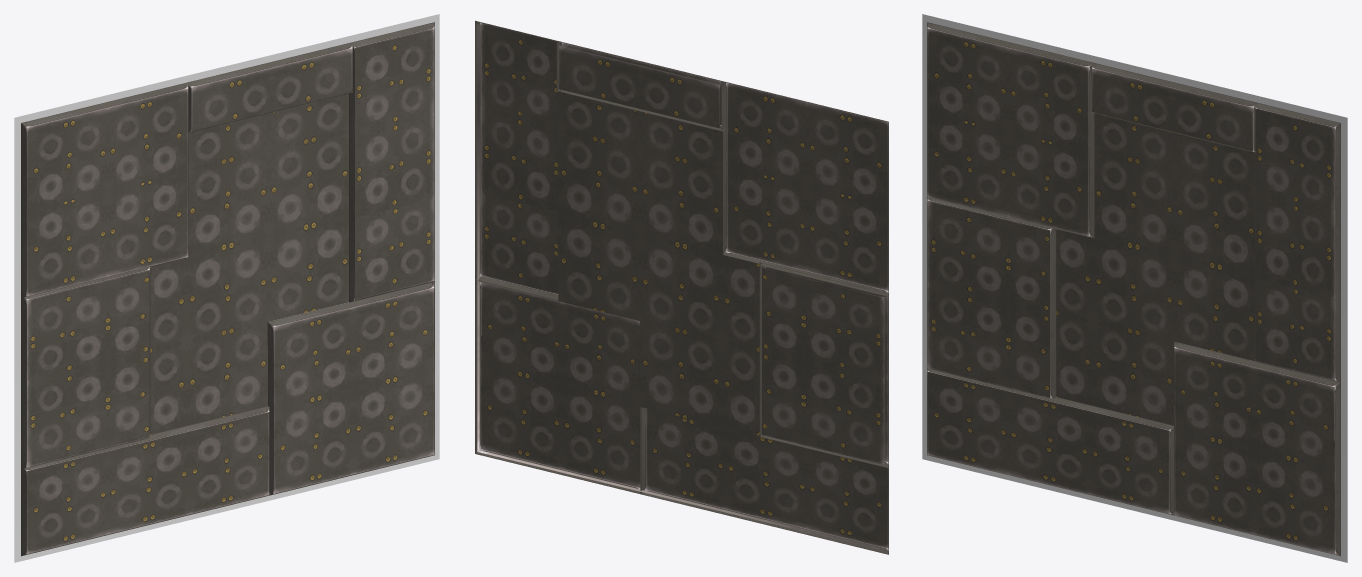
The model's file is tile_5x5.glb.
3 renders of one model, left to right at view 1: azimuth 30°, elevation 25°; view 2: azimuth 150°, elevation 25°; view 3: azimuth 330°, elevation 25°, orthographic.
Visible parts, largest first — view 1: spikes.tile_5x5-Mesh[1], spikes.tile_5x5-Mesh[2]; view 2: spikes.tile_5x5-Mesh[1], spikes.tile_5x5-Mesh[0]; view 3: spikes.tile_5x5-Mesh[1], spikes.tile_5x5-Mesh[2].
Boxes of the visible parts, <box> form: spikes.tile_5x5-Mesh[1]: <box>21,22,434,556</box>; spikes.tile_5x5-Mesh[2]: <box>14,14,439,562</box>; spikes.tile_5x5-Mesh[1]: <box>475,20,888,554</box>; spikes.tile_5x5-Mesh[0]: <box>477,24,886,551</box>; spikes.tile_5x5-Mesh[1]: <box>927,22,1340,556</box>; spikes.tile_5x5-Mesh[2]: <box>922,14,1347,562</box>.
Bounding box in the file's own units: 5.2 × 5.2 × 0.14.
2 materials, 1 textured.
